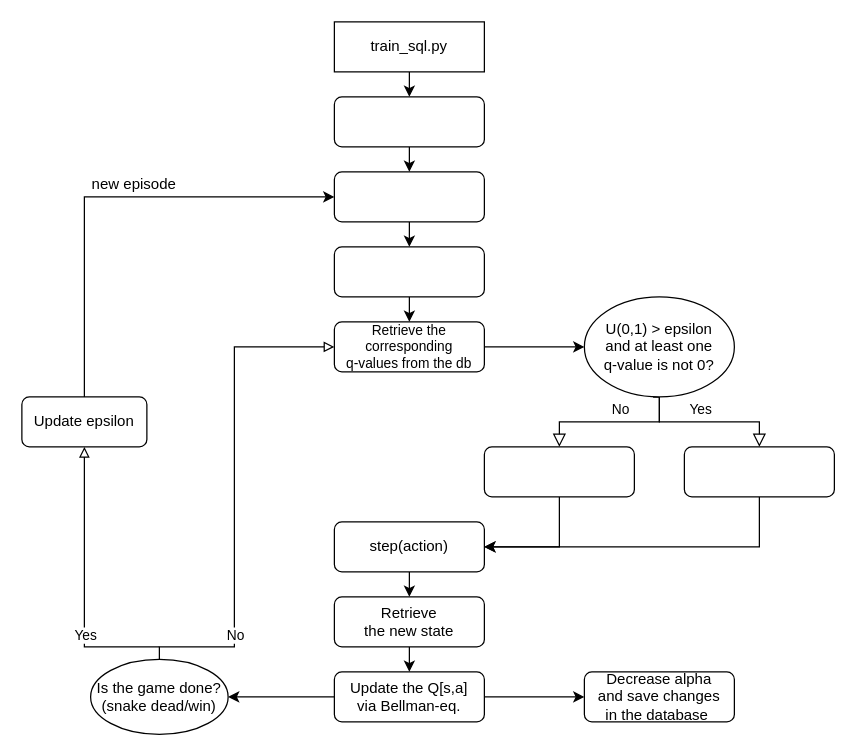
The diagram is 856 pixels wide and 756 high, and some of its shapes have lost their labels. The box of each missing label's shape, as (x1, y1, x2, y2) in pixels:
action = argmax(q-values): (683, 446, 834, 497)
action = random: (483, 446, 634, 497)
Connect to the database: (333, 96, 484, 147)
Reset the game: (333, 171, 484, 222)
Retrieve the state: (333, 246, 484, 297)
